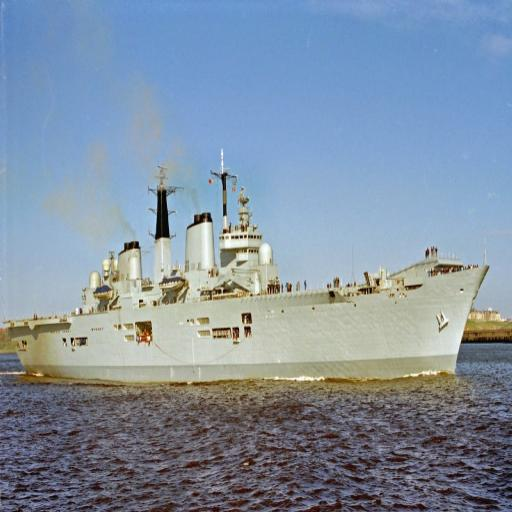Portanaves: (3, 148, 492, 382)
